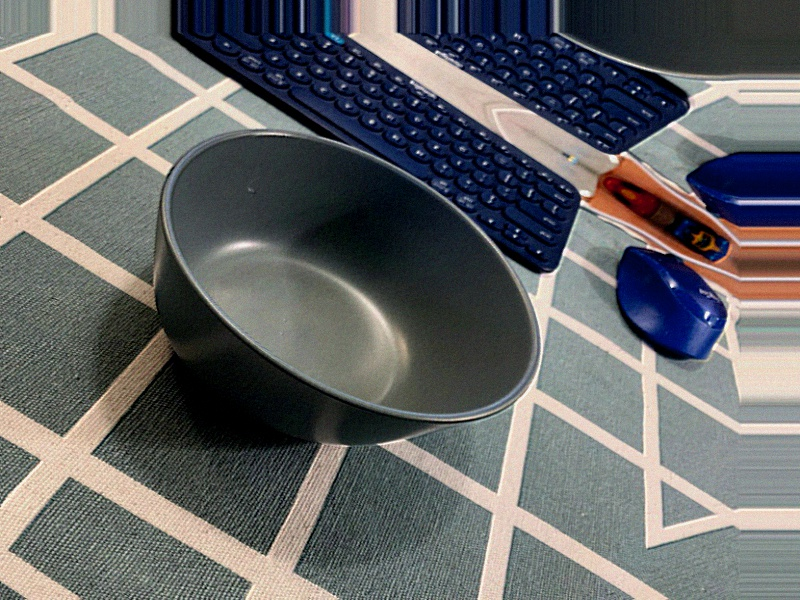bowl_big: (51, 68, 616, 533)
